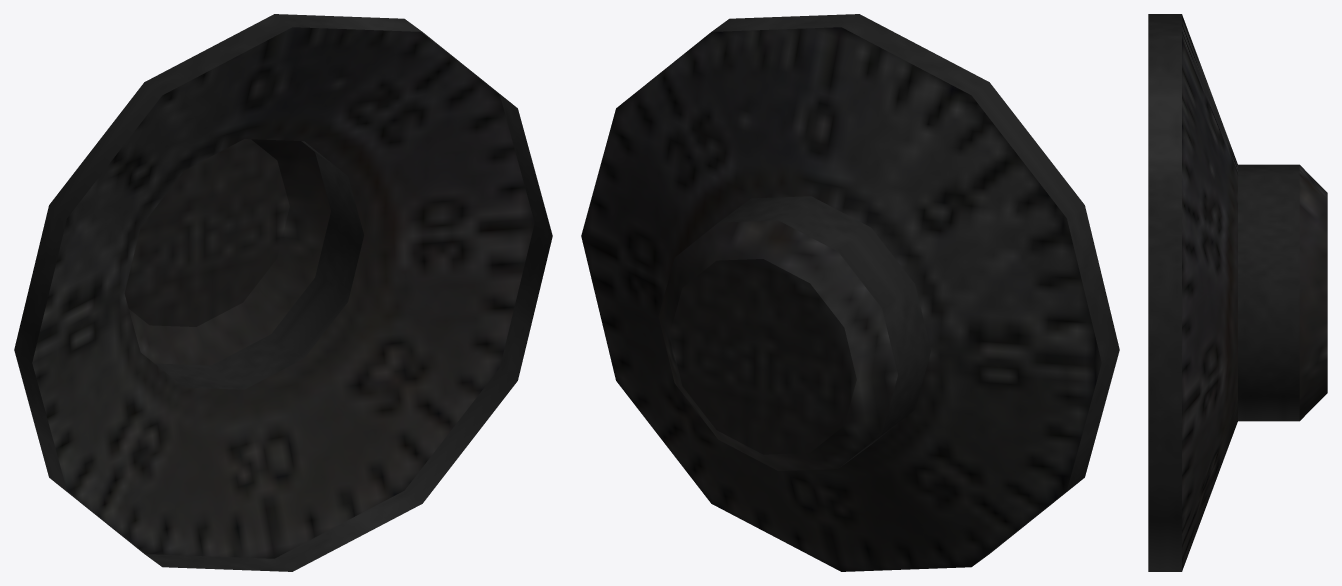
The model's file is padlock_2_knob.obj.
The picture shows the model from 3 angles, left to right: view 1: azimuth 30°, elevation 25°; view 2: azimuth 150°, elevation 25°; view 3: azimuth 270°, elevation 25°; orthographic projection. The views are drawn at different scales.
Parts seen in each view (by area): view 1: padlock_2_knob; view 2: padlock_2_knob; view 3: padlock_2_knob.
Part boxes in pixels (x1,y1,x2,y2): padlock_2_knob: [14, 14, 552, 571]; padlock_2_knob: [581, 14, 1119, 571]; padlock_2_knob: [1148, 14, 1327, 571].
Bounding box in the file's own units: 0.05 × 0.05 × 0.016.
